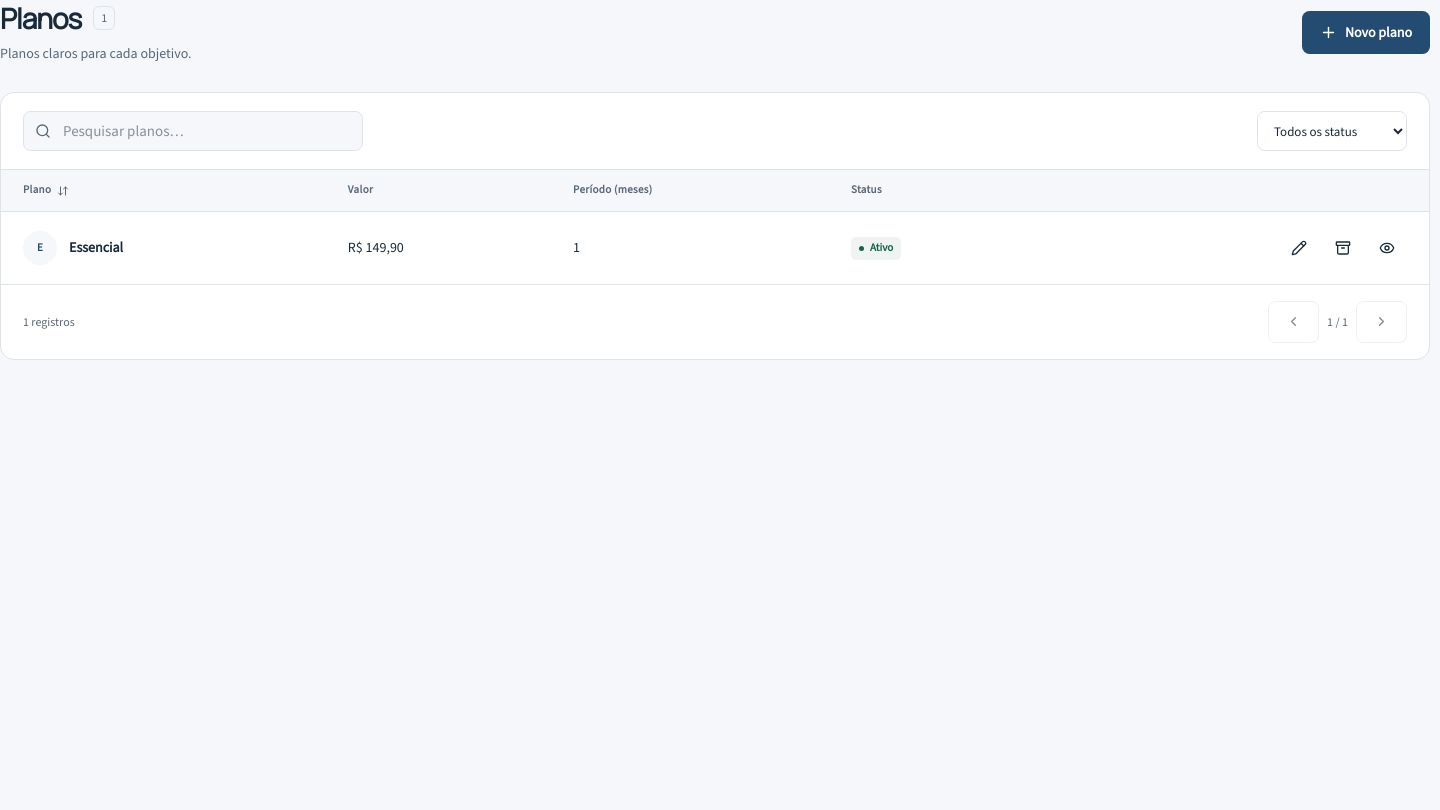
Test case: plans › cria registro com validação e atualiza os dados exibidos
Check: the table is shown, box top-left (1, 170), bottom-right (1429, 284)
Click the button "Novo plano": point(1366, 32) top-left (1302, 11), bottom-right (1430, 54)
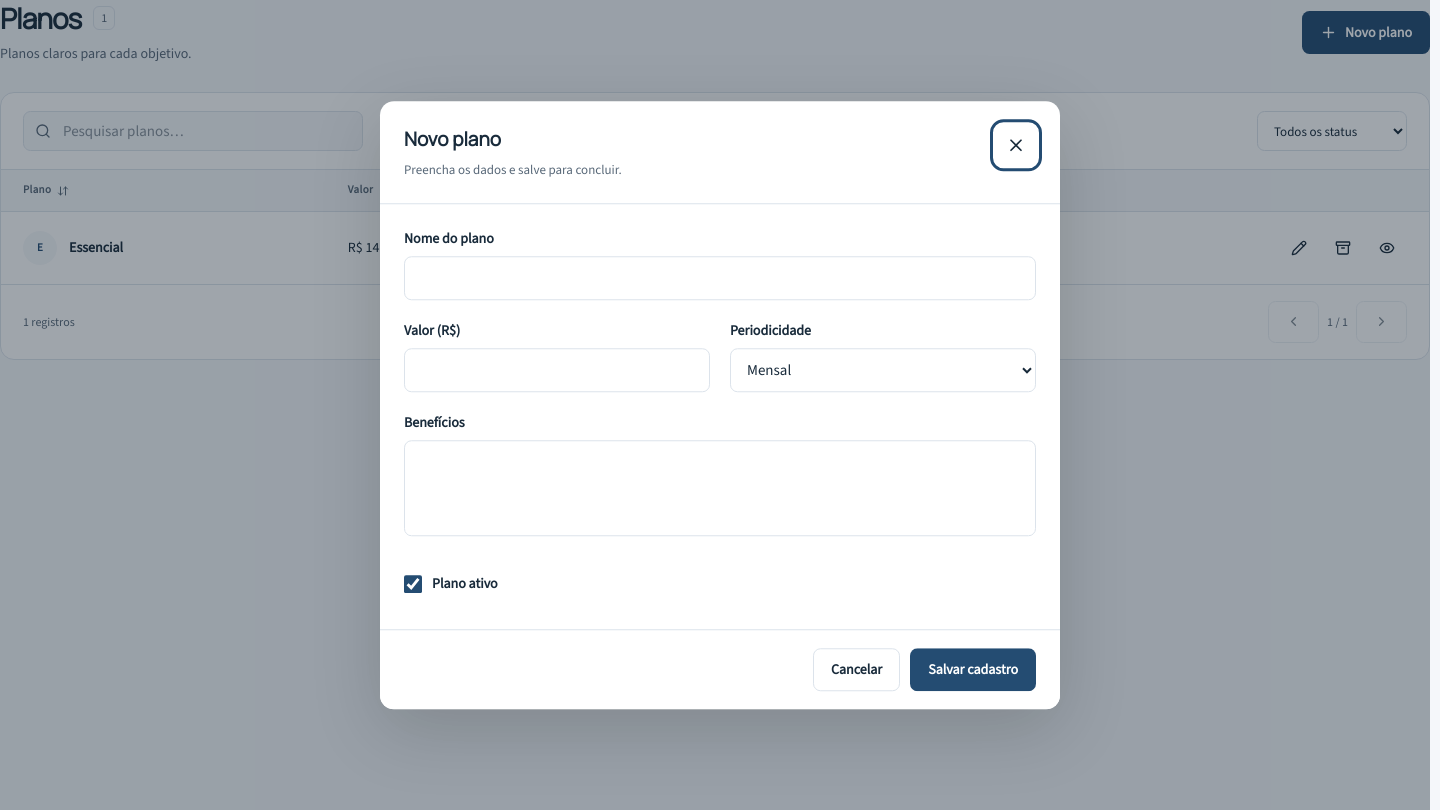
In the field labelled "Nome do plano": point(720, 278) top-left (404, 256), bottom-right (1036, 300), type "Plano novo"
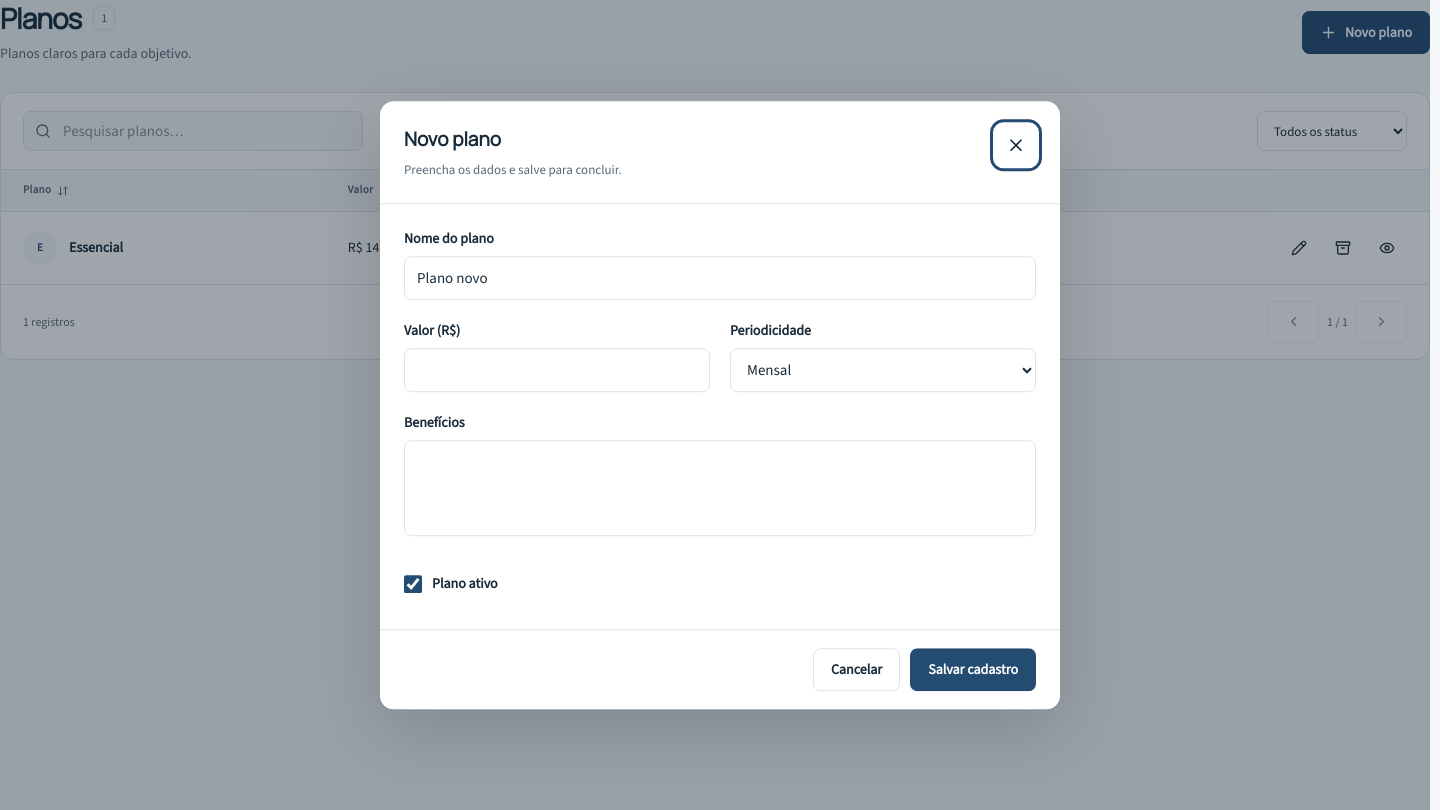
In the number field labelled "Valor (R$)": point(557, 370) top-left (404, 348), bottom-right (710, 392), type "169.90"
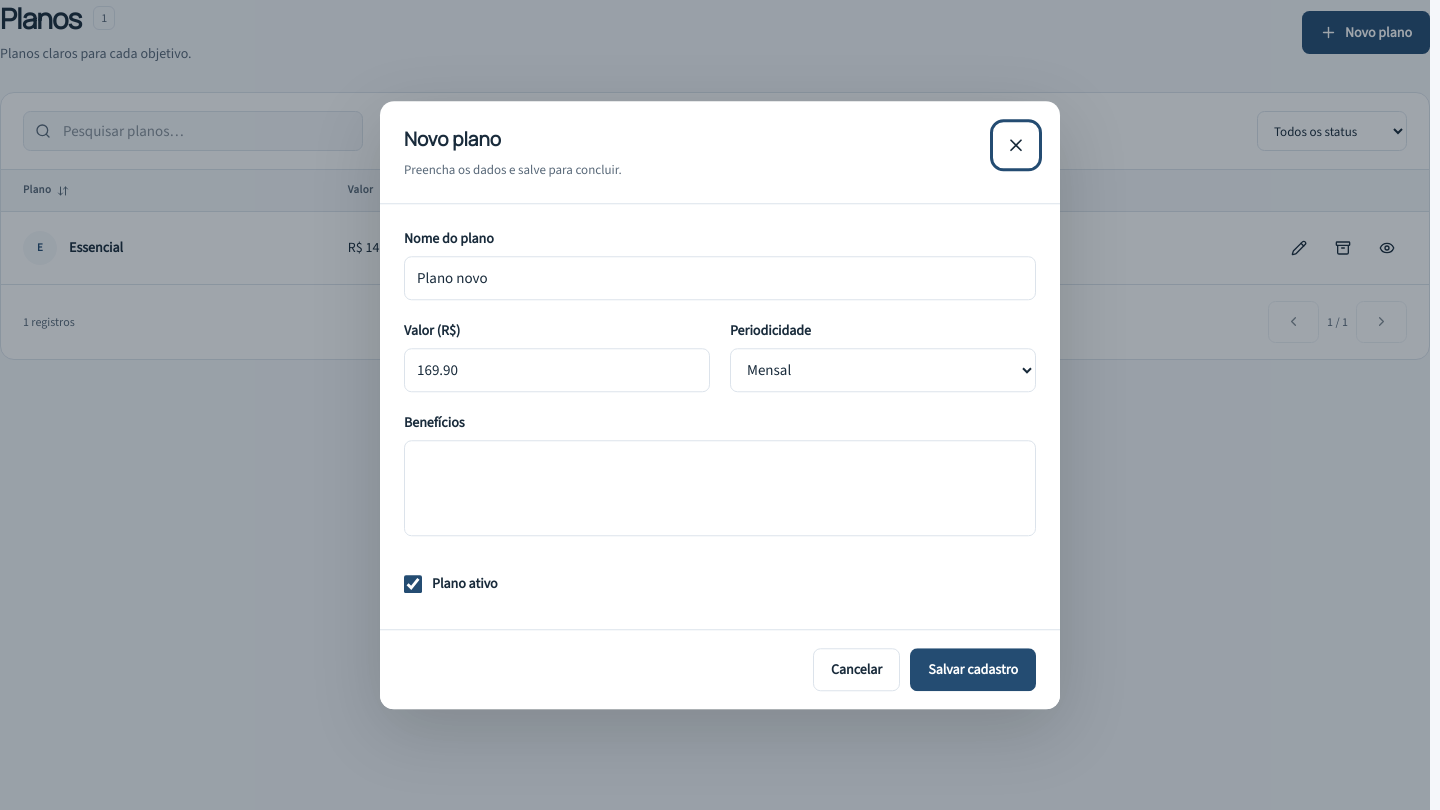
Select "Mensal" in the dropdown labelled "Periodicidade": point(883, 370) top-left (730, 348), bottom-right (1036, 392)
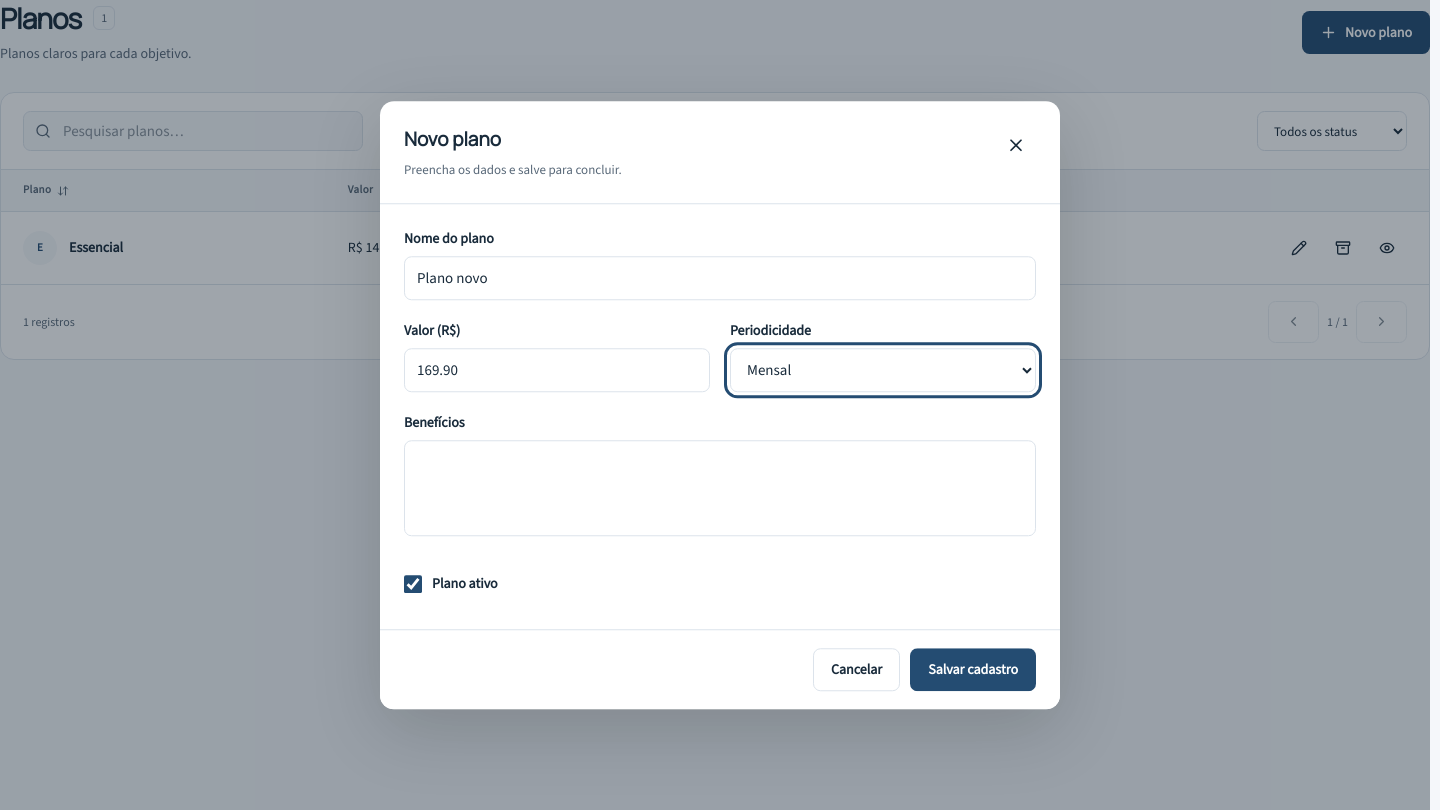
In the text box labelled "Benefícios": point(720, 488) top-left (404, 440), bottom-right (1036, 536), type "Musculação e aulas"
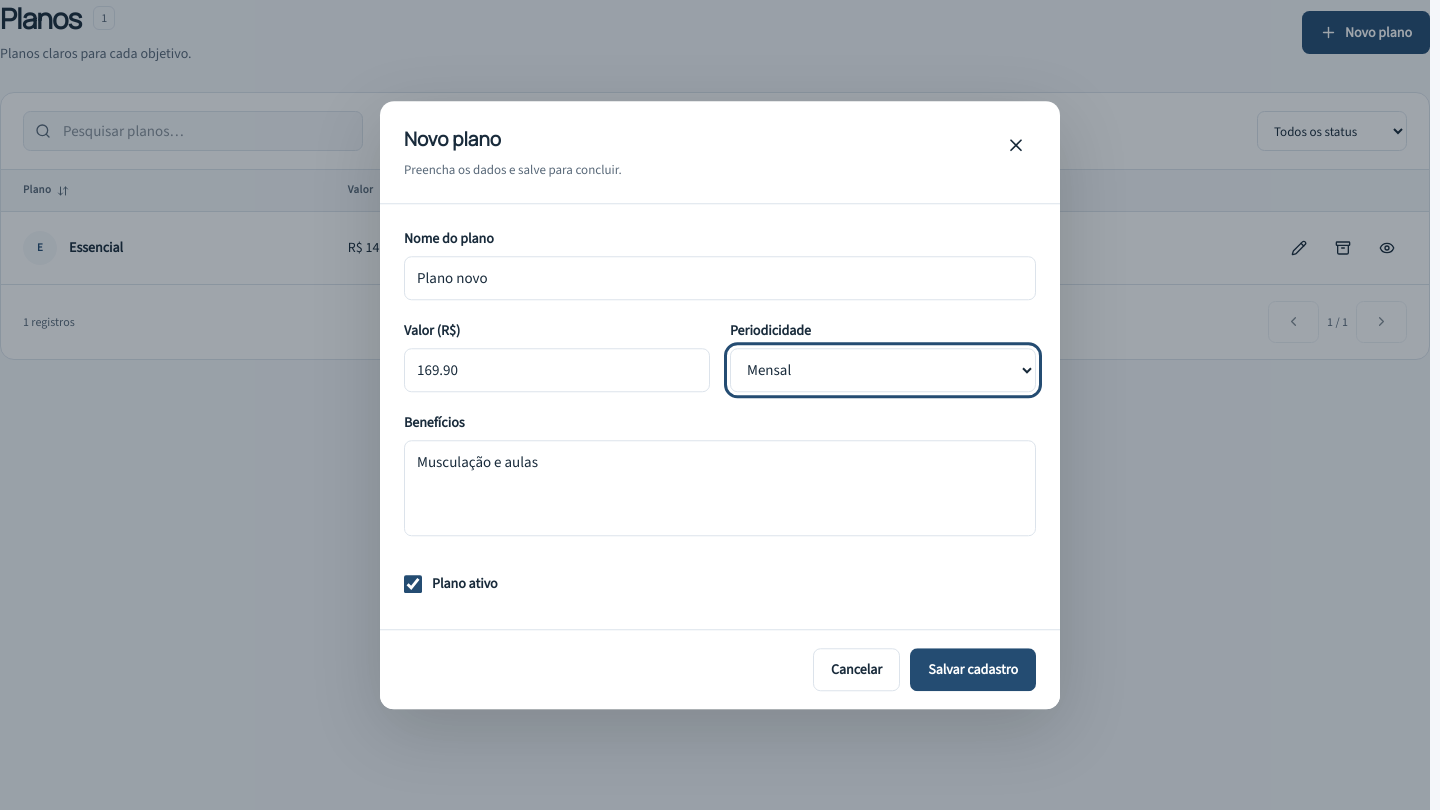
Click the button "Salvar cadastro": point(973, 669) top-left (910, 648), bottom-right (1036, 691)
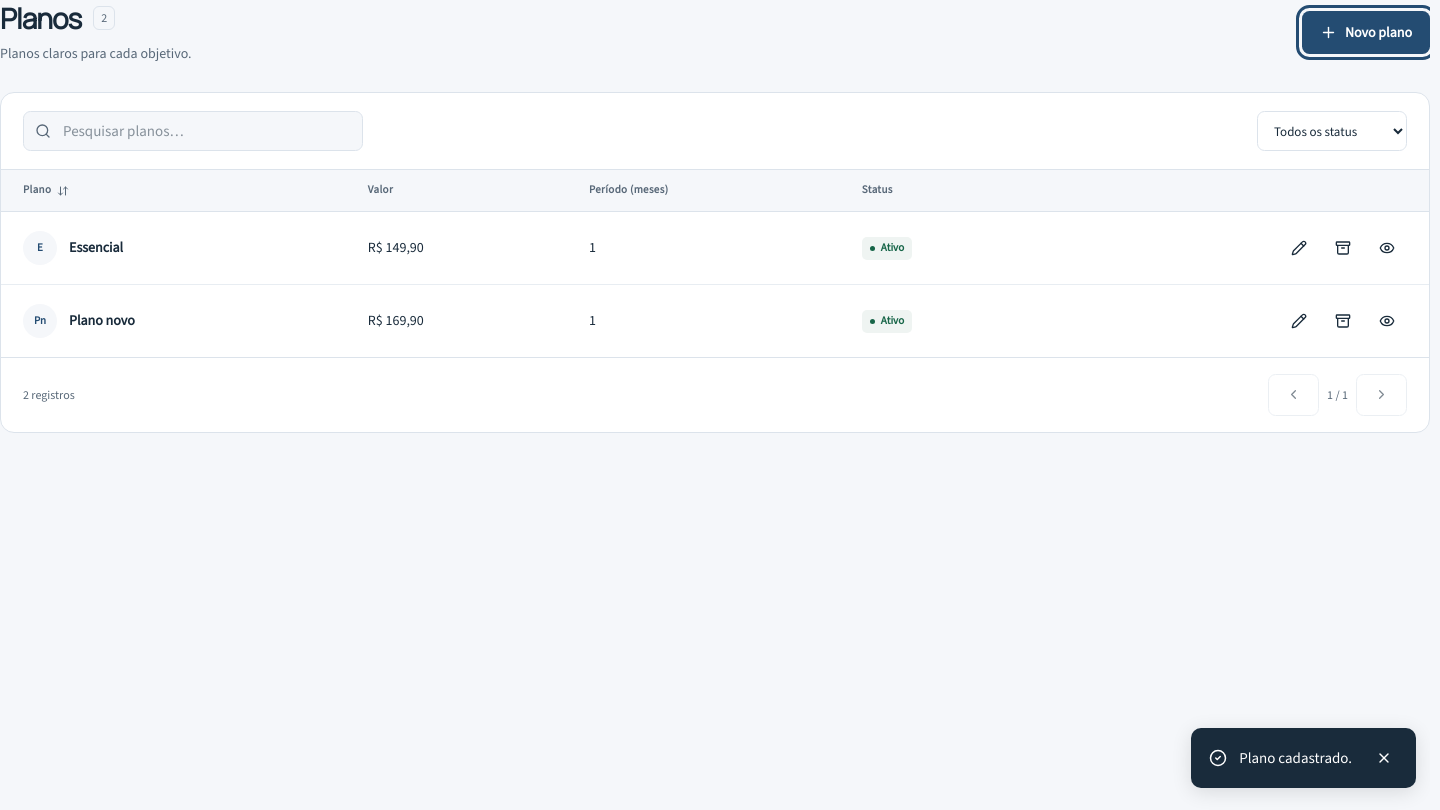
Check: the dialog is gone
Check: the message reads "Plano cadastrado.", box top-left (1239, 748), bottom-right (1352, 768)
